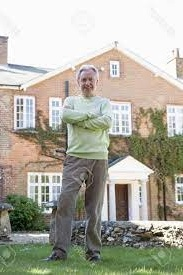not_fallen: (43, 60, 119, 264)
